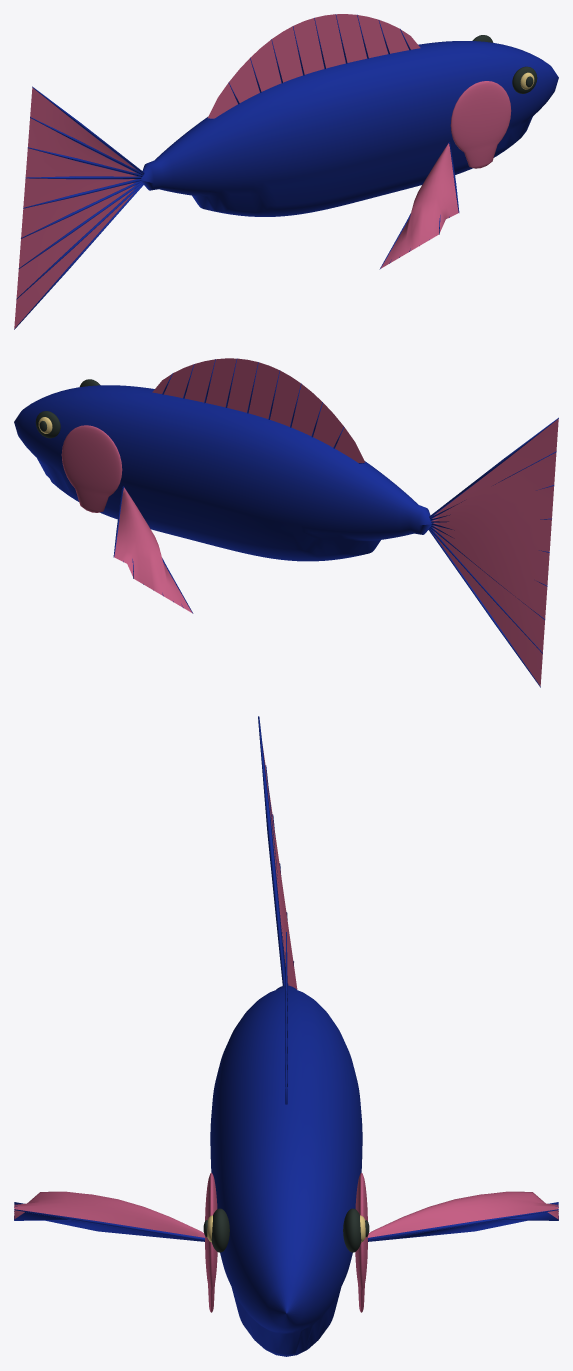
File: fish-betta.glb
3 views of the same model, one above another, from view 1: azimuth 30°, elevation 25°; view 2: azimuth 150°, elevation 25°; view 3: azimuth 270°, elevation 25° (orthographic). The views are drawn at different scales.
Visible parts, largest first — view 1: FishMesh_1, FishMesh_2, FishMesh_3; view 2: FishMesh_1, FishMesh_2, FishMesh_3; view 3: FishMesh_1, FishMesh_2, FishMesh_3.
Boxes of the visible parts, left/top/right/bottom form: FishMesh_1: left=14, top=14, right=558, bottom=329; FishMesh_2: left=14, top=14, right=511, bottom=328; FishMesh_3: left=472, top=35, right=537, bottom=93; FishMesh_1: left=14, top=358, right=558, bottom=687; FishMesh_2: left=61, top=358, right=558, bottom=686; FishMesh_3: left=35, top=379, right=100, bottom=438; FishMesh_1: left=14, top=716, right=558, bottom=1356; FishMesh_2: left=14, top=746, right=558, bottom=1312; FishMesh_3: left=203, top=1208, right=369, bottom=1252.
Size of the model in its own units: 1.15 by 0.5265 by 0.6609.
Materials: 4 (1 with a texture image).
